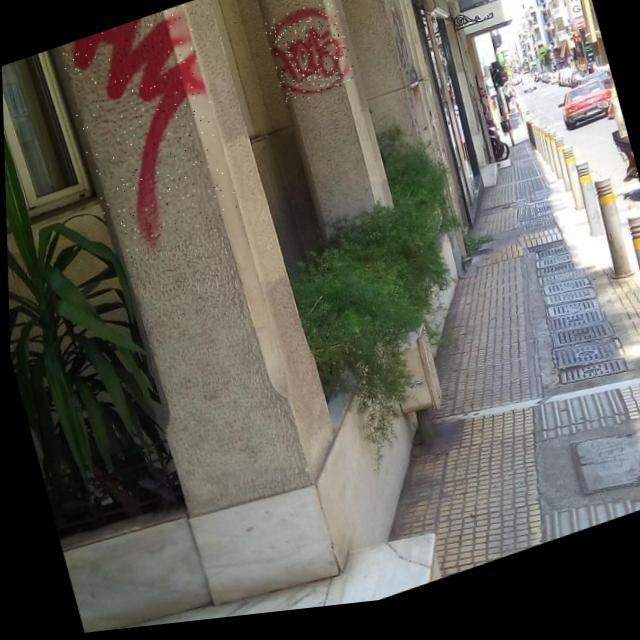-: (56, 2, 240, 266), (262, 3, 356, 114)
